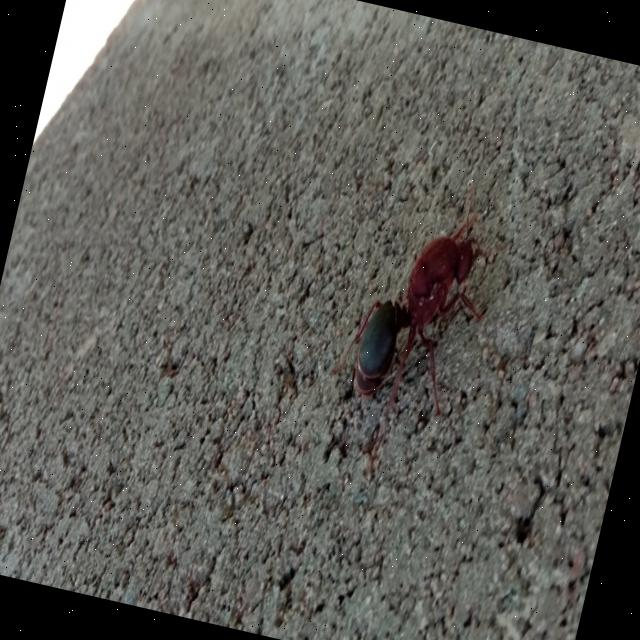Alive-Female-Dealate: (324, 176, 512, 430)
